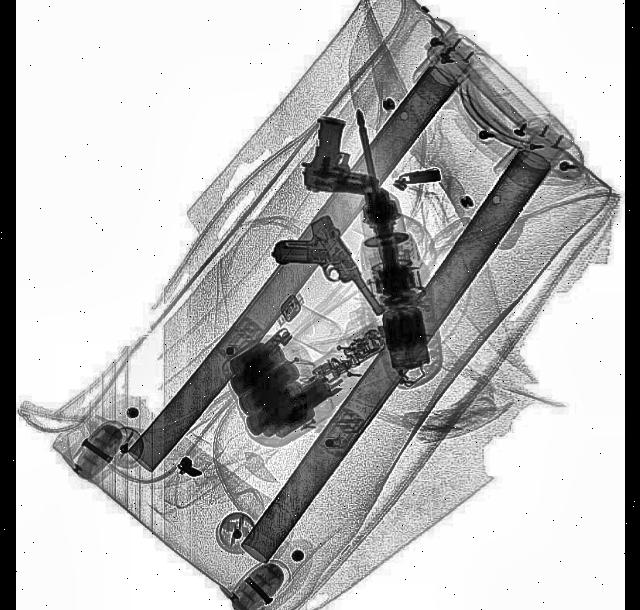Gun: (270, 205, 390, 353), (300, 117, 388, 201)
